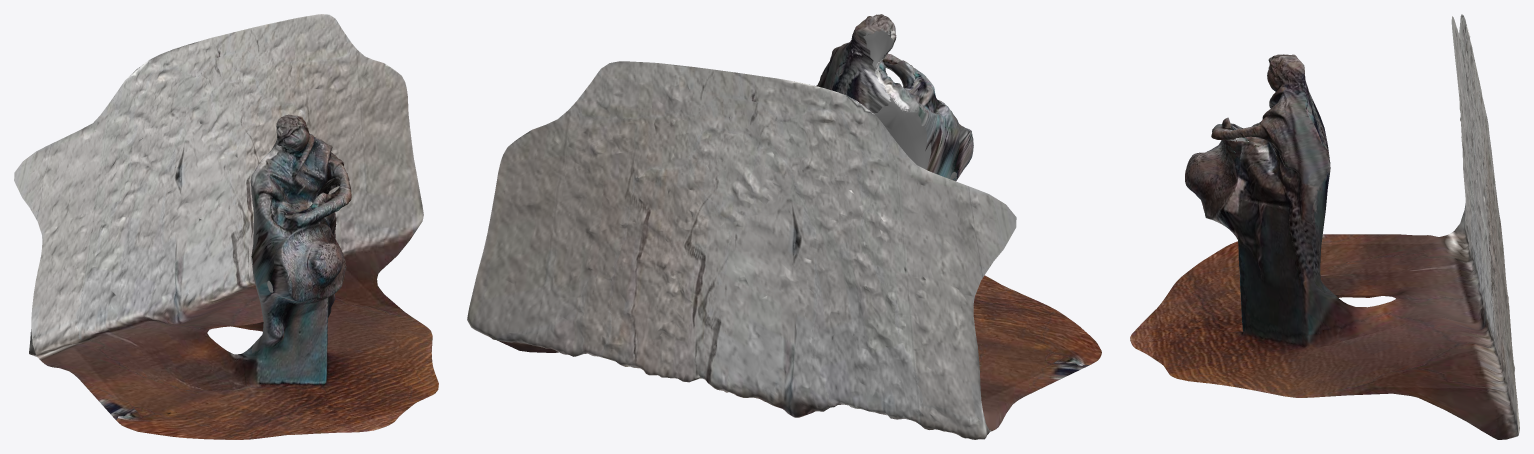
Rendered from powertexLady.obj.
The picture shows the model from 3 angles, left to right: view 1: azimuth 30°, elevation 25°; view 2: azimuth 150°, elevation 25°; view 3: azimuth 270°, elevation 25°; orthographic projection. The views are drawn at different scales.
Parts seen in each view (by area): view 1: powertexLady; view 2: powertexLady; view 3: powertexLady.
Boxes of the visible parts, <box> form: powertexLady: <box>14,14,438,439</box>; powertexLady: <box>467,14,1101,439</box>; powertexLady: <box>1130,14,1519,439</box>.
Size of the model in its own units: 37.06 by 22.74 by 26.79.
2 materials, 1 textured.
